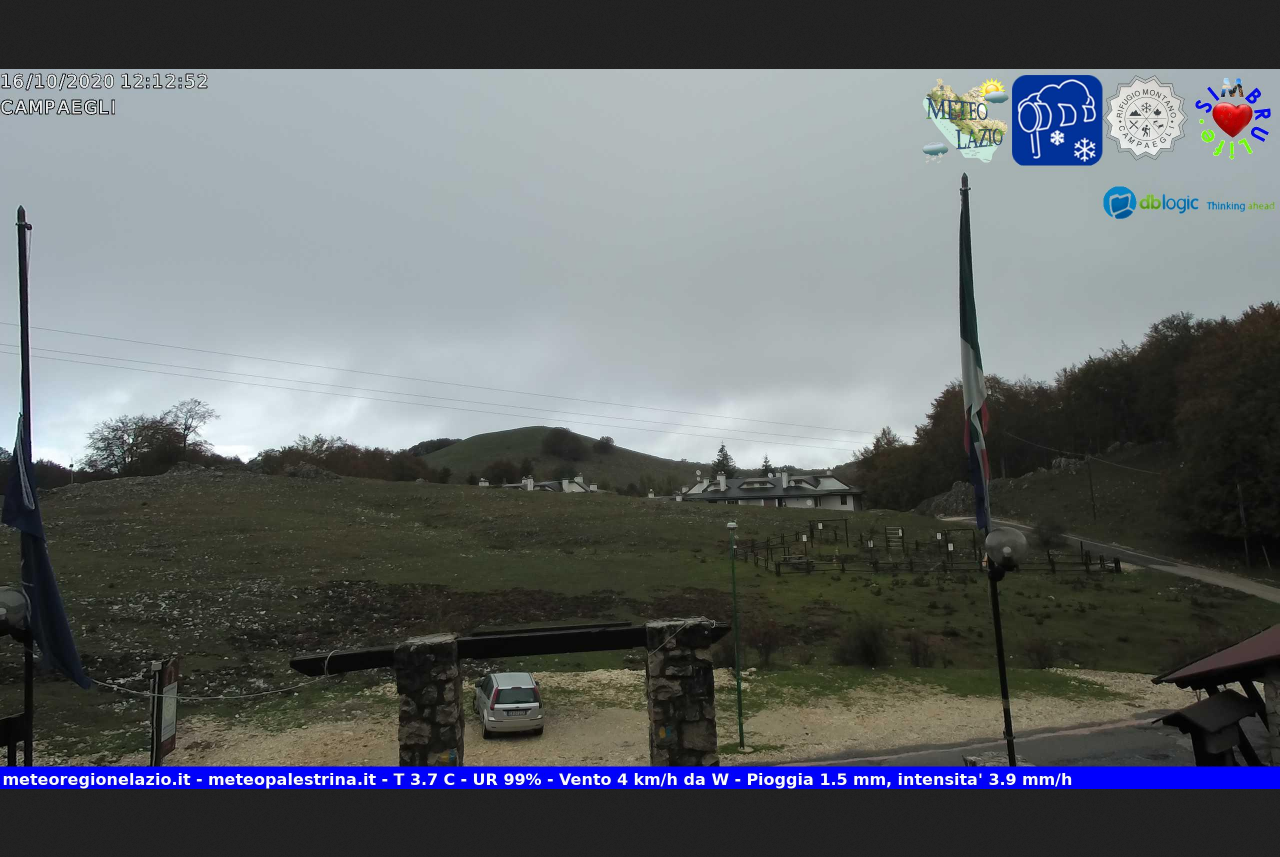no: (4, 411, 101, 691), (950, 172, 1001, 534)
